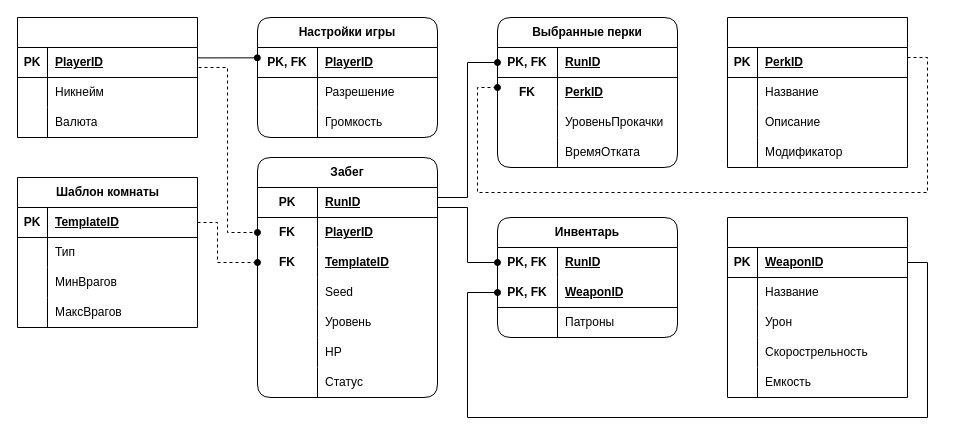
Some shapes in this 953 by 443 pixel diagram are drawn without their labels. Here are the shapes that lost their labels. From the top down, the box of each, then its label:
(16, 16, 198, 138): Игрок
(726, 16, 908, 168): Перк
(726, 216, 908, 398): Оружие
